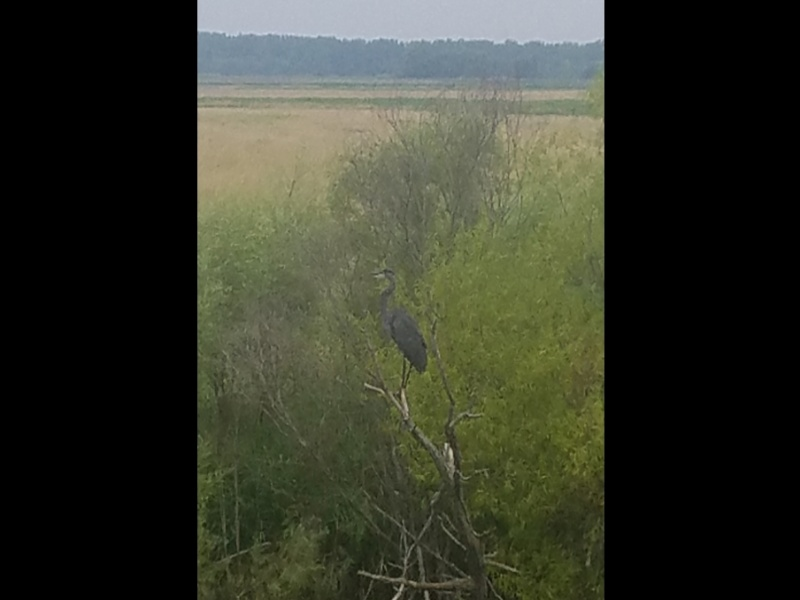heron: (369, 270, 428, 405)
